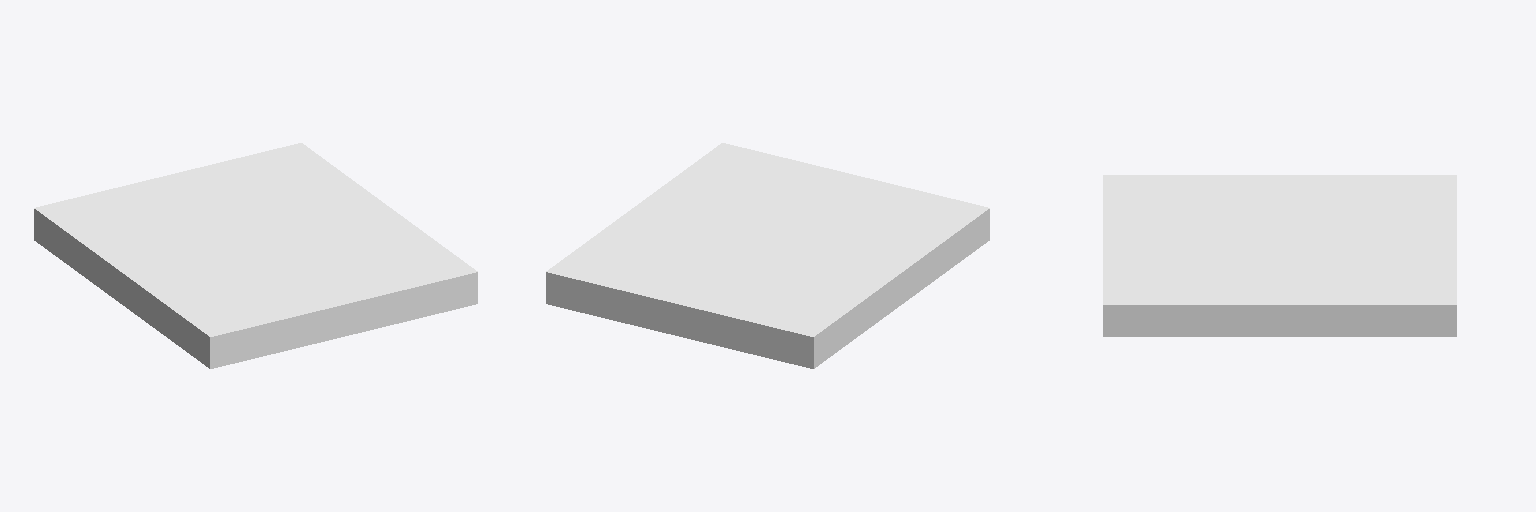
The model's file is Walls-1.obj.
The picture shows the model from 3 angles: view 1: azimuth 30°, elevation 25°; view 2: azimuth 150°, elevation 25°; view 3: azimuth 270°, elevation 25°; orthographic projection.
Parts seen in each view (by area): view 1: object 1; view 2: object 1; view 3: object 1.
Part boxes in pixels (left/top/right/bottom): object 1: left=34, top=143, right=477, bottom=368; object 1: left=546, top=143, right=989, bottom=368; object 1: left=1103, top=175, right=1456, bottom=336.
Bounding box in the file's own units: 3.5 × 0.4 × 4.